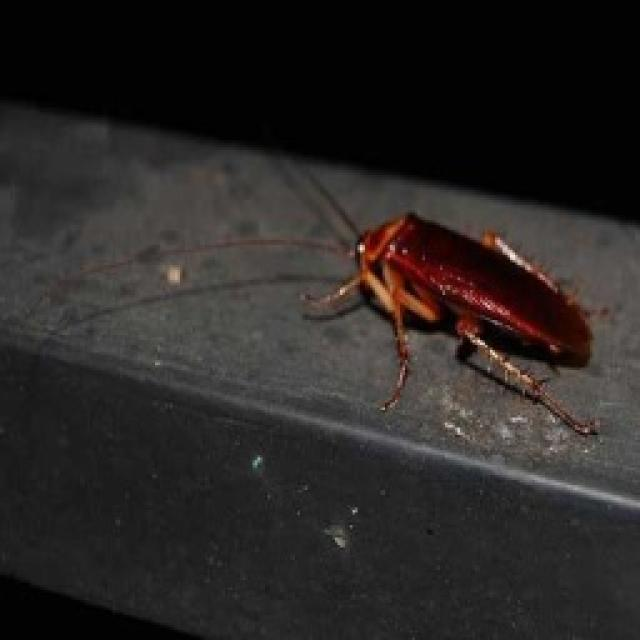cockroach: (298, 205, 606, 443)
